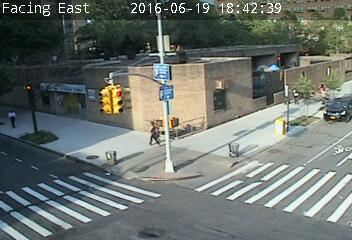neg: (233, 36, 254, 65), (18, 149, 39, 176), (182, 24, 201, 50), (76, 193, 95, 219), (223, 132, 242, 156), (198, 190, 216, 215), (157, 159, 175, 183), (188, 154, 206, 178), (230, 186, 248, 210), (129, 71, 147, 94), (100, 116, 117, 139), (160, 198, 177, 221), (137, 27, 154, 49), (294, 12, 311, 34), (326, 134, 342, 156), (42, 17, 58, 38), (102, 77, 118, 98), (188, 101, 204, 122), (209, 73, 224, 94), (175, 62, 190, 83), (127, 160, 142, 180), (283, 203, 298, 222), (266, 139, 280, 159), (250, 80, 264, 100), (85, 22, 99, 41), (253, 14, 267, 33), (181, 129, 195, 148), (69, 138, 82, 156), (267, 175, 280, 193), (289, 47, 302, 65), (100, 152, 112, 168), (310, 133, 322, 149), (266, 102, 278, 118), (64, 73, 76, 88), (234, 105, 246, 120), (322, 194, 333, 209), (308, 167, 316, 178), (41, 101, 48, 110)
pos: (142, 116, 163, 144), (3, 107, 21, 131), (286, 83, 303, 105), (314, 78, 329, 98)
